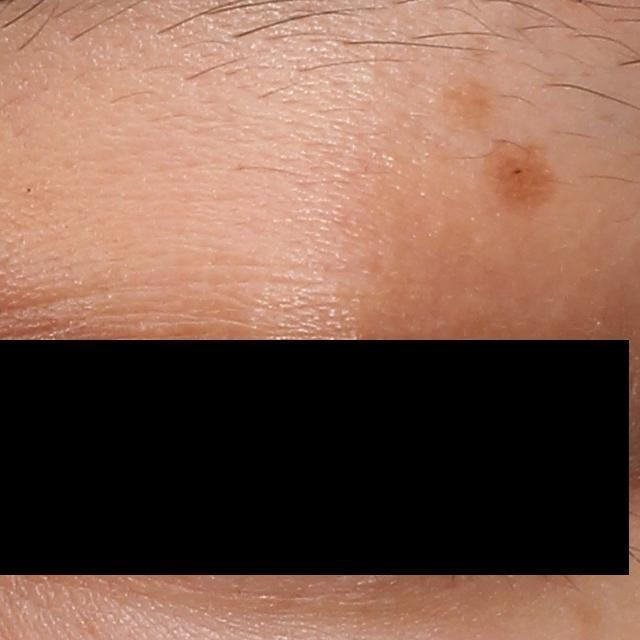melasma: (476, 144, 569, 207), (442, 73, 496, 125)
